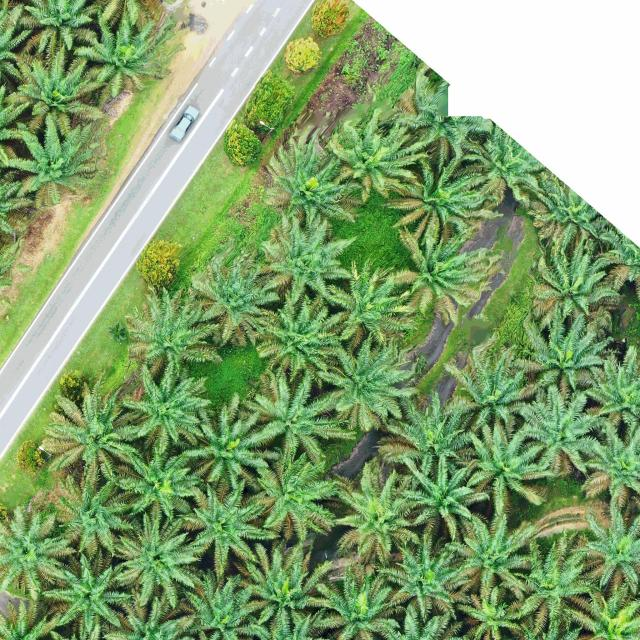Tree: (382, 219, 509, 333), (41, 381, 146, 492), (314, 328, 422, 434), (254, 124, 364, 228), (170, 390, 282, 492), (169, 480, 283, 580), (326, 454, 427, 566), (457, 416, 562, 520), (100, 509, 204, 614), (0, 39, 110, 138), (504, 529, 602, 640), (0, 110, 106, 210), (227, 541, 336, 637), (386, 153, 502, 243), (254, 211, 361, 308), (514, 300, 615, 402), (436, 338, 542, 435), (329, 110, 434, 206), (74, 8, 181, 102), (318, 254, 418, 354), (185, 255, 288, 350), (444, 510, 541, 610), (373, 391, 487, 476), (112, 356, 210, 454), (373, 532, 476, 625), (117, 287, 223, 376), (244, 449, 340, 546), (41, 467, 136, 564), (33, 550, 135, 640), (253, 292, 346, 388), (528, 234, 618, 330), (0, 502, 82, 607), (514, 384, 606, 476), (242, 372, 330, 468), (398, 453, 489, 545), (112, 438, 208, 520), (314, 564, 406, 640), (178, 567, 270, 640), (577, 417, 640, 514), (580, 506, 640, 596), (582, 342, 640, 430), (449, 582, 532, 640), (244, 72, 296, 137), (134, 235, 181, 288), (222, 121, 262, 168), (285, 36, 322, 74), (15, 440, 46, 473), (61, 372, 82, 400)
